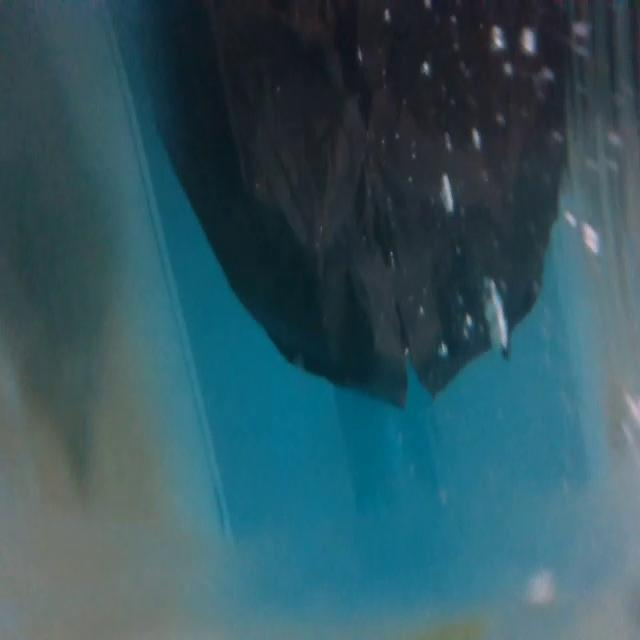plastic bags: (123, 4, 578, 422)
